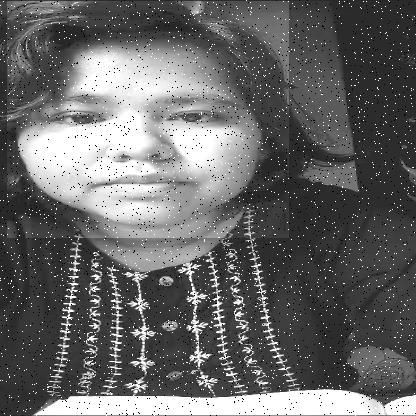Normal: (7, 1, 289, 238)
